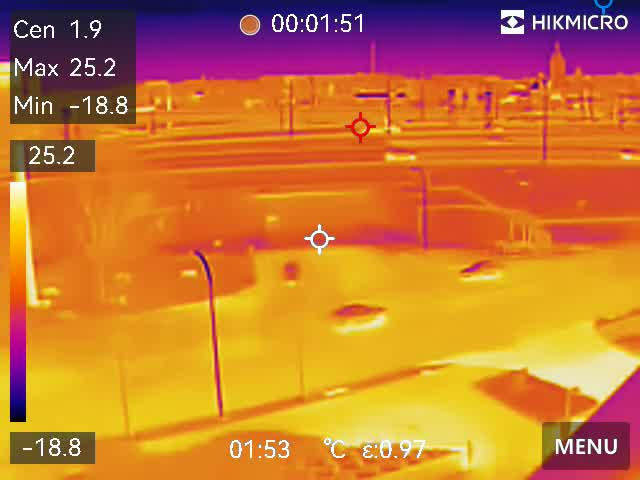vehicle: (327, 301, 389, 328), (270, 256, 303, 293), (456, 259, 499, 284), (377, 149, 424, 168), (613, 139, 640, 167)
